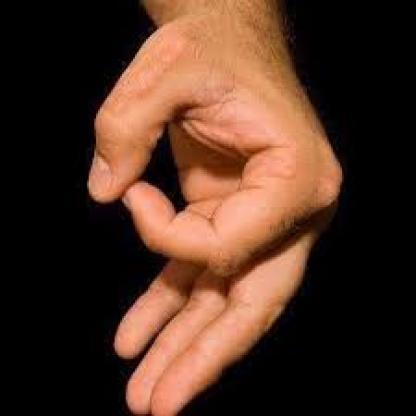ok: (78, 7, 348, 416)
